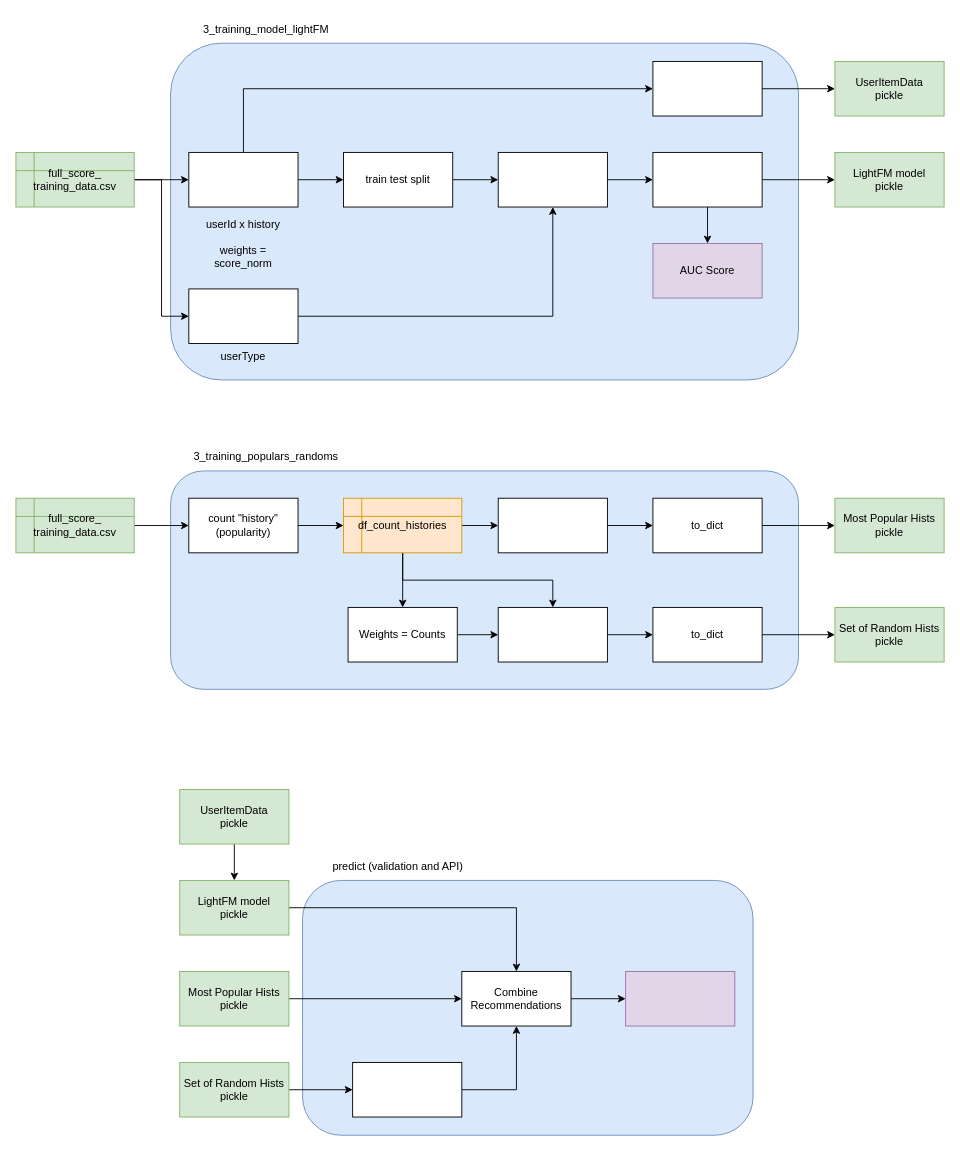
This 960x1151 diagram has some shape labels left out. Each missing label, with the centre of its shape:
"build interaction matrix and mappings" goes at pixel 243 179.
"build user features" goes at pixel 243 316.
"LightFM model" goes at pixel 707 179.
"LightFM.fit" goes at pixel 552 179.
"LIMIT / TOP k_pop_items" goes at pixel 552 525.
"Recommended List" goes at pixel 680 998.
"SAMPLE (Random Weighted) k_sample_items" goes at pixel 552 634.
"SAMPLE (Random) k_sampled_items" goes at pixel 407 1089.
"UserItemData (mappings)" goes at pixel 707 88.
